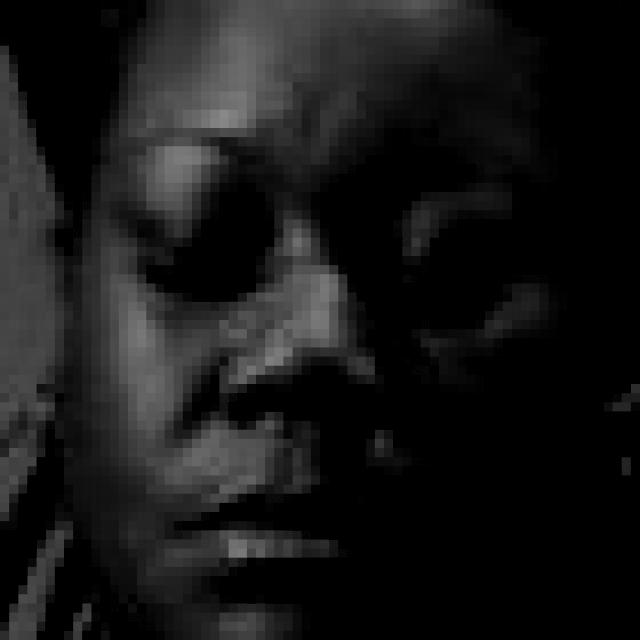real: (56, 0, 620, 640), (117, 190, 543, 324)
